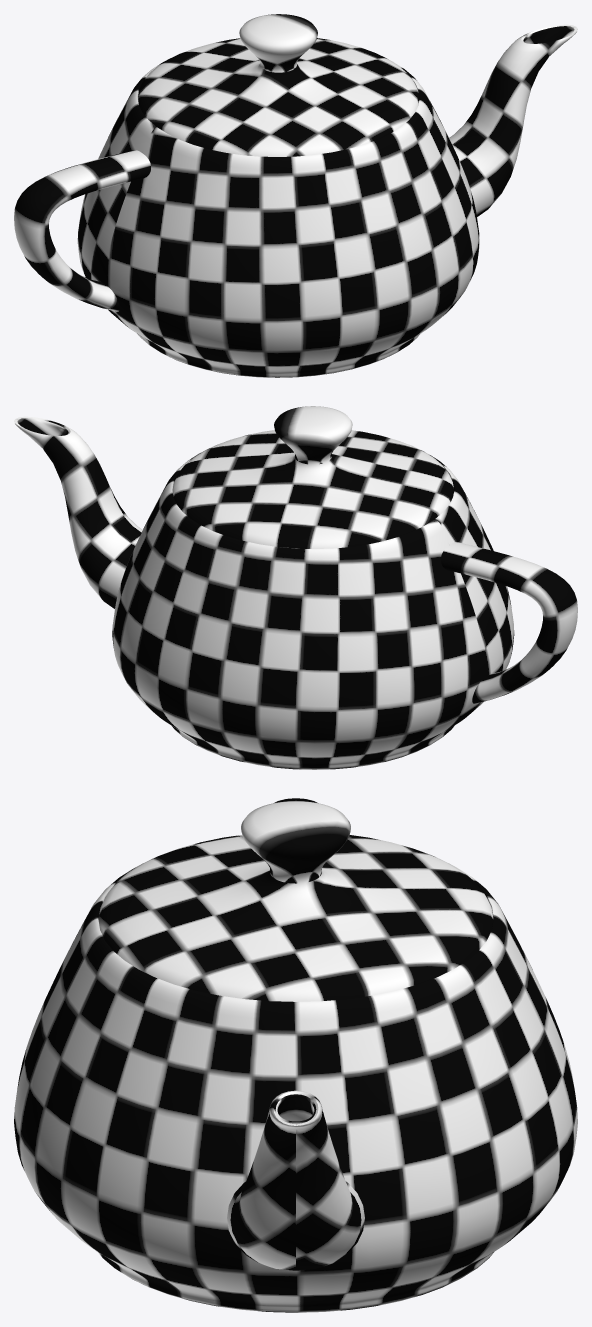
The picture shows the model from 3 angles, top to bottom: view 1: azimuth 30°, elevation 25°; view 2: azimuth 150°, elevation 25°; view 3: azimuth 270°, elevation 25°; orthographic projection. The views are drawn at different scales.
Visible parts, largest first — view 1: Teapot001, Object001; view 2: Teapot001, Object001; view 3: Teapot001, Object001.
Part boxes in pixels (bbox=[...]): Teapot001: bbox=[14, 24, 577, 377]; Object001: bbox=[138, 14, 419, 156]; Teapot001: bbox=[14, 416, 577, 769]; Object001: bbox=[172, 406, 453, 548]; Teapot001: bbox=[14, 798, 577, 1312]; Object001: bbox=[98, 801, 493, 1001].
Size of the model in its own units: 154 by 79.01 by 95.86.
1 material, 1 textured.
